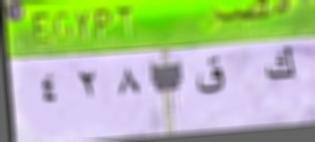2: (75, 67, 106, 105)
4: (37, 71, 64, 111)
8: (115, 65, 144, 103)
kaaf: (260, 43, 299, 90)
qaaf: (189, 54, 232, 102)
